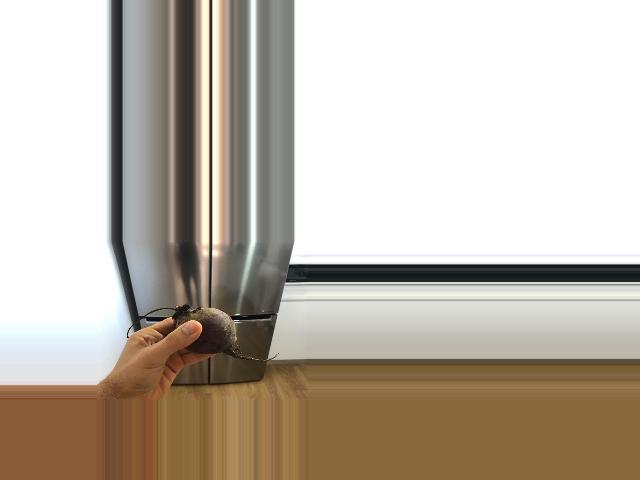beet: (127, 304, 280, 361)
